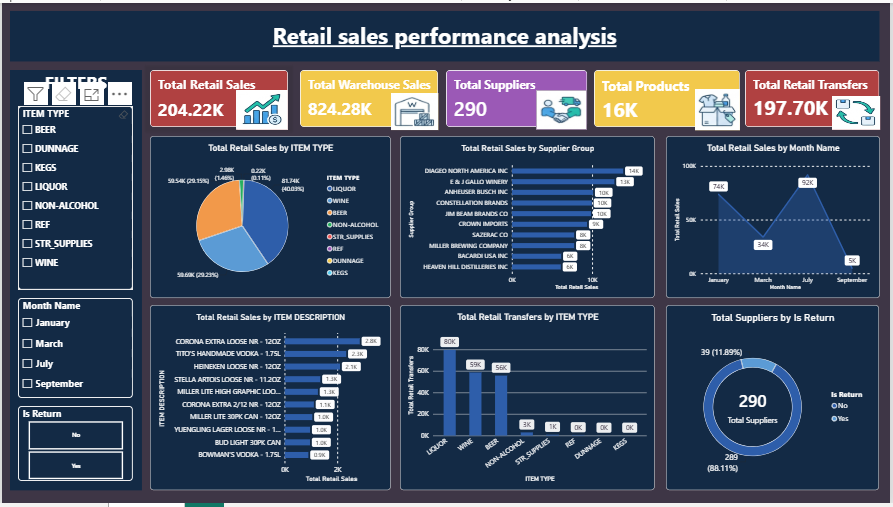

This screenshot's page, from the dashboard's own definition file:
{"tool":"powerbi","page":{"name":"Page 1","canvas":[1920,1080],"ordinal":0},"visuals":[{"type":"lineChart","fields":{"Category":["retail_warehouse_sales.Month Name"],"Y":["retail_warehouse_sales.Total Retail Sales"]},"box":[1433.3,288.3,461.7,350],"z":0},{"type":"barChart","fields":{"Category":["retail_warehouse_sales.Supplier Group"],"Y":["retail_warehouse_sales.Total Retail Sales"]},"box":[860,288.3,550,350],"z":1000},{"type":"pieChart","fields":{"Category":["retail_warehouse_sales.ITEM TYPE"],"Y":["retail_warehouse_sales.Total Retail Sales"]},"box":[320,288.3,520,350],"z":2000},{"type":"cardVisual","fields":{"Data":["retail_warehouse_sales.Total Retail Sales"]},"box":[319.7,144.7,298.1,123.1],"z":3000},{"type":"cardVisual","fields":{"Data":["retail_warehouse_sales.Total Warehouse Sales"]},"box":[643.3,145,298.3,123.3],"z":4000},{"type":"cardVisual","fields":{"Data":["retail_warehouse_sales.Total Suppliers"]},"box":[960,145,305,123.3],"z":5000},{"type":"cardVisual","fields":{"Data":["retail_warehouse_sales.Total Retail Transfers"]},"box":[1605,145,290,123.3],"z":6000},{"type":"textbox","box":[17.8,17.8,1877.8,108.9],"z":7000},{"type":"textbox","box":[17.5,145,285,907.5],"z":8000},{"type":"slicer","fields":{"Values":["retail_warehouse_sales.ITEM TYPE"]},"box":[34.6,222.5,248.4,397.4],"z":9000},{"type":"slicer","fields":{"Values":["retail_warehouse_sales.Month Name"]},"box":[34.6,637.2,248.4,216],"z":10000},{"type":"slicer","fields":{"Values":["retail_warehouse_sales.Is Return"]},"box":[34.6,870.5,248.4,162],"z":11000},{"type":"barChart","fields":{"Category":["retail_warehouse_sales.ITEM DESCRIPTION"],"Y":["retail_warehouse_sales.Total Retail Sales"]},"box":[320,653.3,520,400],"z":12000},{"type":"columnChart","fields":{"Category":["retail_warehouse_sales.ITEM TYPE"],"Y":["retail_warehouse_sales.Total Retail Transfers"]},"box":[860,653.3,550,400],"z":13000},{"type":"donutChart","fields":{"Category":["retail_warehouse_sales.Is Return"],"Y":["retail_warehouse_sales.Total Suppliers"]},"box":[1434.2,652.3,460.1,399.6],"z":14000},{"type":"cardVisual","fields":{"Data":["retail_warehouse_sales.Total Products"]},"box":[1278.3,145,315,123.3],"z":15000},{"type":"image","box":[505.4,187.9,112.3,86.4],"z":16000},{"type":"image","box":[840.2,194.4,101.5,79.9],"z":17000},{"type":"image","box":[1153.4,187.9,110.2,86.4],"z":18000},{"type":"image","box":[1496.9,185.8,97.2,88.6],"z":19000},{"type":"image","box":[1792.8,200.9,103.7,73.4],"z":20000}]}

Visuals, with their boxes in screenshot pixels (x1, y1, x2, y2), scaled from the page's 1920x1080 canvas onto the 893x507 screenshot:
lineChart - retail_warehouse_sales.Month Name x retail_warehouse_sales.Total Retail Sales: pyautogui.locateOnScreen(667, 135, 881, 300)
barChart - retail_warehouse_sales.Supplier Group x retail_warehouse_sales.Total Retail Sales: pyautogui.locateOnScreen(400, 135, 656, 300)
pieChart - retail_warehouse_sales.ITEM TYPE x retail_warehouse_sales.Total Retail Sales: pyautogui.locateOnScreen(149, 135, 391, 300)
cardVisual - retail_warehouse_sales.Total Retail Sales: pyautogui.locateOnScreen(149, 68, 287, 126)
cardVisual - retail_warehouse_sales.Total Warehouse Sales: pyautogui.locateOnScreen(299, 68, 438, 126)
cardVisual - retail_warehouse_sales.Total Suppliers: pyautogui.locateOnScreen(446, 68, 588, 126)
cardVisual - retail_warehouse_sales.Total Retail Transfers: pyautogui.locateOnScreen(746, 68, 881, 126)
textbox: pyautogui.locateOnScreen(8, 8, 882, 59)
textbox: pyautogui.locateOnScreen(8, 68, 141, 494)
slicer - retail_warehouse_sales.ITEM TYPE: pyautogui.locateOnScreen(16, 104, 132, 291)
slicer - retail_warehouse_sales.Month Name: pyautogui.locateOnScreen(16, 299, 132, 401)
slicer - retail_warehouse_sales.Is Return: pyautogui.locateOnScreen(16, 409, 132, 485)
barChart - retail_warehouse_sales.ITEM DESCRIPTION x retail_warehouse_sales.Total Retail Sales: pyautogui.locateOnScreen(149, 307, 391, 494)
columnChart - retail_warehouse_sales.ITEM TYPE x retail_warehouse_sales.Total Retail Transfers: pyautogui.locateOnScreen(400, 307, 656, 494)
donutChart - retail_warehouse_sales.Is Return x retail_warehouse_sales.Total Suppliers: pyautogui.locateOnScreen(667, 306, 881, 494)
cardVisual - retail_warehouse_sales.Total Products: pyautogui.locateOnScreen(595, 68, 741, 126)
image: pyautogui.locateOnScreen(235, 88, 287, 129)
image: pyautogui.locateOnScreen(391, 91, 438, 129)
image: pyautogui.locateOnScreen(536, 88, 588, 129)
image: pyautogui.locateOnScreen(696, 87, 741, 129)
image: pyautogui.locateOnScreen(834, 94, 882, 129)
